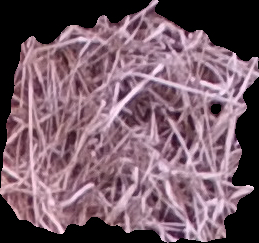soil: (4, 4, 253, 241)
